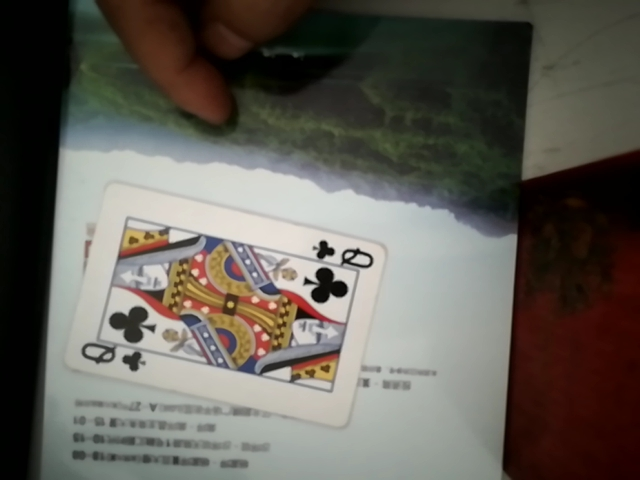mh q: (61, 167, 384, 432)
